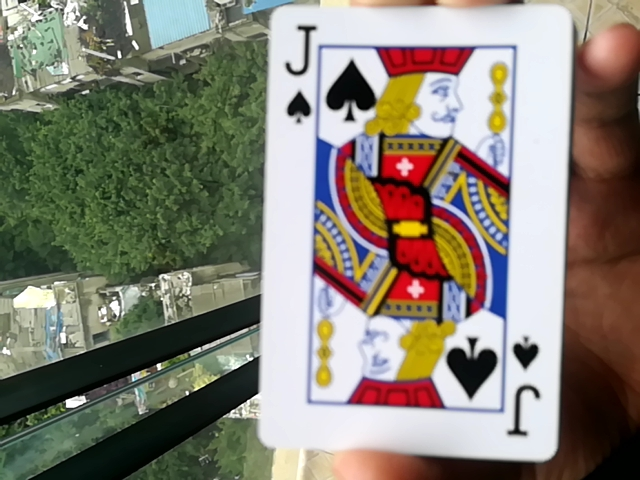ht j: (248, 16, 575, 460)
